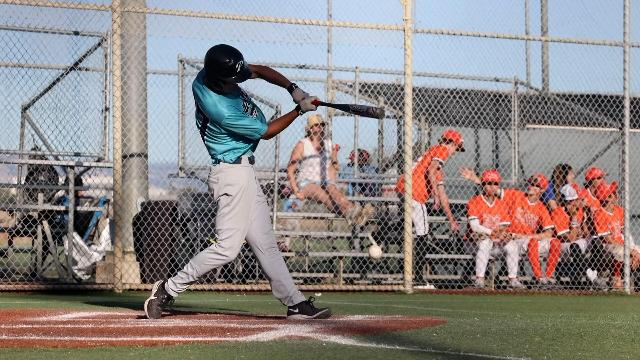ball: (368, 244, 384, 260)
bat: (312, 100, 386, 121)
